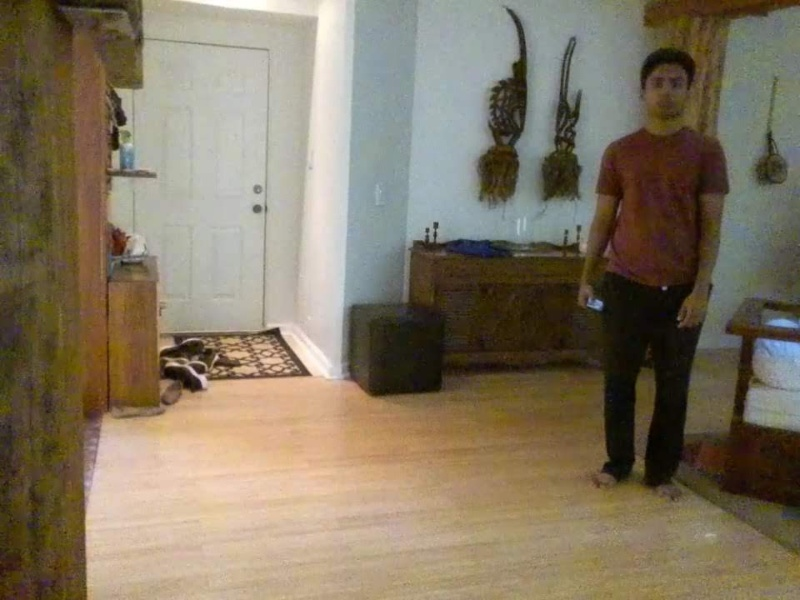nihad: (578, 45, 729, 505)
